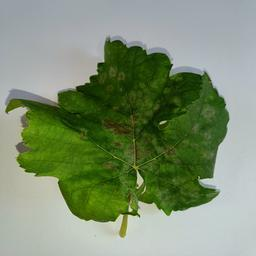Powdery-Mildew: (128, 69, 169, 114), (183, 103, 214, 160), (99, 123, 138, 160), (146, 135, 180, 167), (108, 174, 130, 210), (97, 64, 126, 88), (179, 183, 201, 202), (198, 85, 212, 98)
